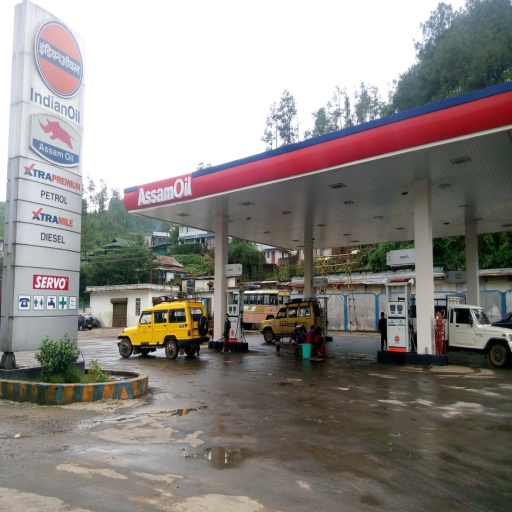roof: (122, 79, 510, 274)
